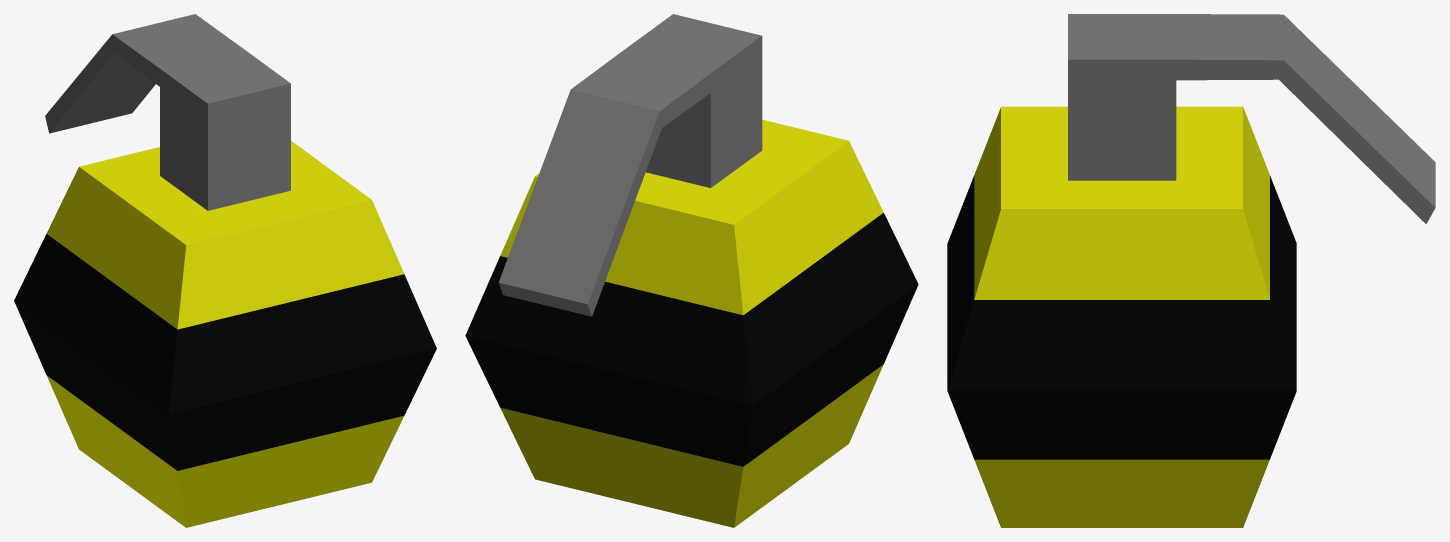
File: grenade.fbx
3 views of the same model, side by side, from view 1: azimuth 30°, elevation 25°; view 2: azimuth 150°, elevation 25°; view 3: azimuth 270°, elevation 25° (orthographic). The views are drawn at different scales.
Parts seen in each view (by area): view 1: Cube; view 2: Cube; view 3: Cube.
Boxes of the visible parts, left/top/right/bottom form: Cube: left=14, top=14, right=436, bottom=527; Cube: left=465, top=14, right=918, bottom=527; Cube: left=947, top=14, right=1435, bottom=527.
Size of the model in its own units: 289 by 401 by 403.
